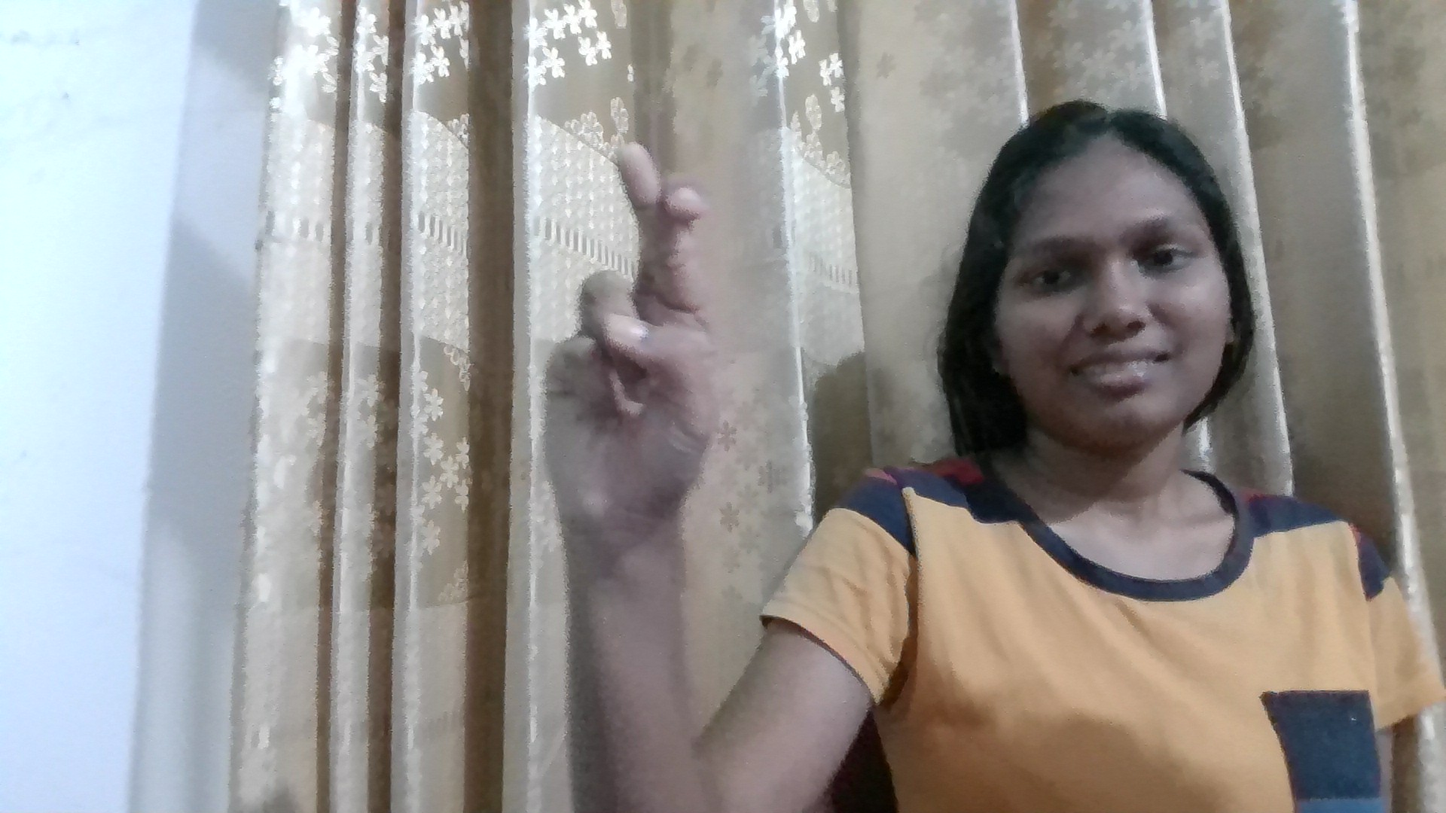Good_Luck: (482, 126, 803, 561)
